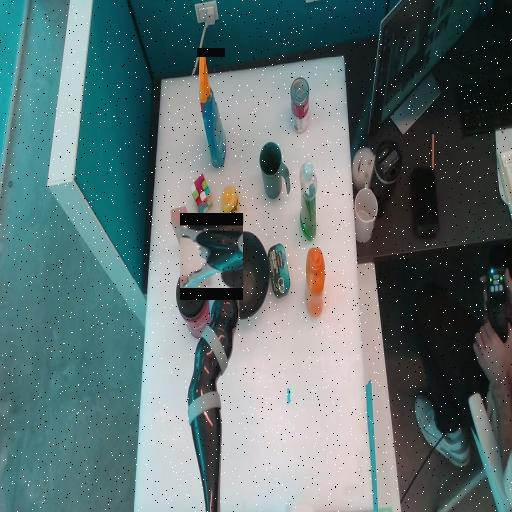bowl: (218, 232, 268, 318)
cleanser: (299, 193, 316, 209)
coffee_can: (175, 284, 214, 322)
jaco: (180, 226, 243, 289)
meat_can: (268, 245, 289, 298)
mug: (258, 156, 289, 186)
mustard_bottle: (305, 249, 324, 317)
rubik: (190, 174, 212, 217)
soup_can: (290, 78, 308, 133)
tennis_ball: (221, 188, 238, 218)
windex: (197, 99, 225, 121)
wooden_block: (171, 208, 195, 254)
workspace: (135, 57, 372, 509)
